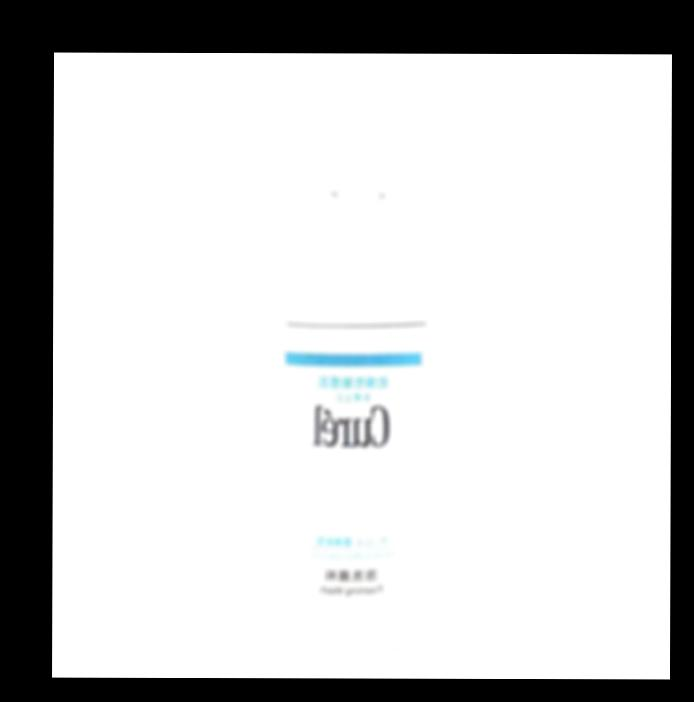cosmetic: (249, 96, 467, 650)
